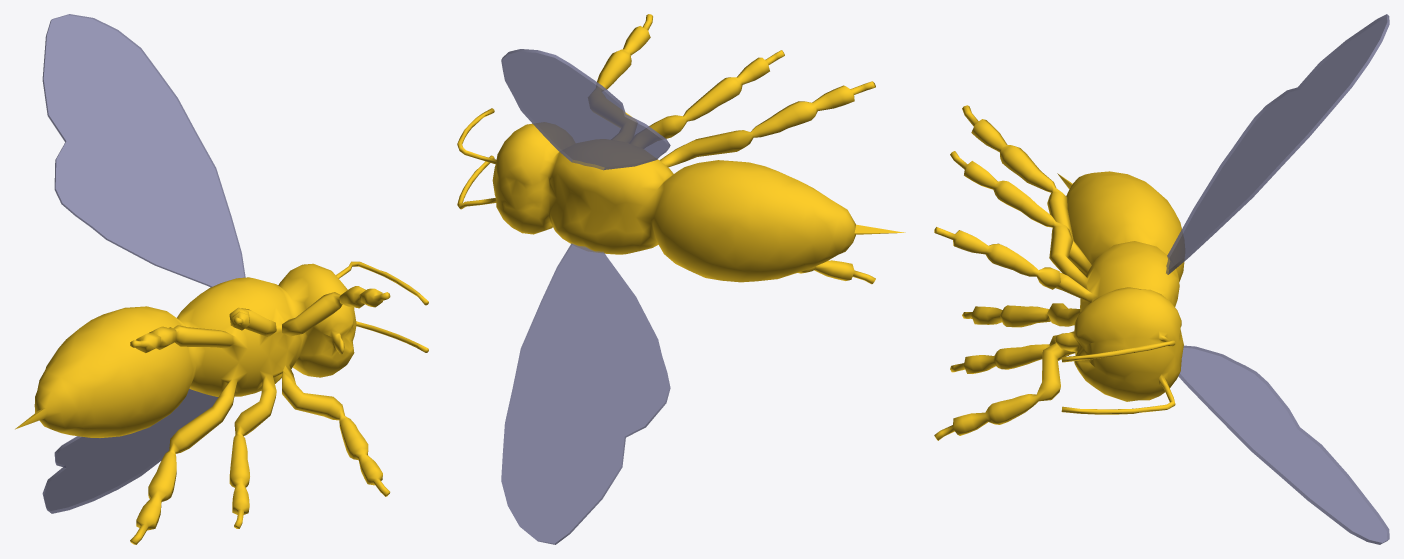
File: bee.FBX
3 views of the same model, side by side, from view 1: azimuth 30°, elevation 25°; view 2: azimuth 150°, elevation 25°; view 3: azimuth 270°, elevation 25° (orthographic). The views are drawn at different scales.
Parts seen in each view (by area): view 1: bee; view 2: bee; view 3: bee.
Part boxes in pixels (x1=…): bee: x1=15, y1=14, x2=428, y2=544; bee: x1=457, y1=14, x2=905, y2=544; bee: x1=934, y1=14, x2=1389, y2=544.
Bounding box in the file's own units: 243 × 220 × 276.
